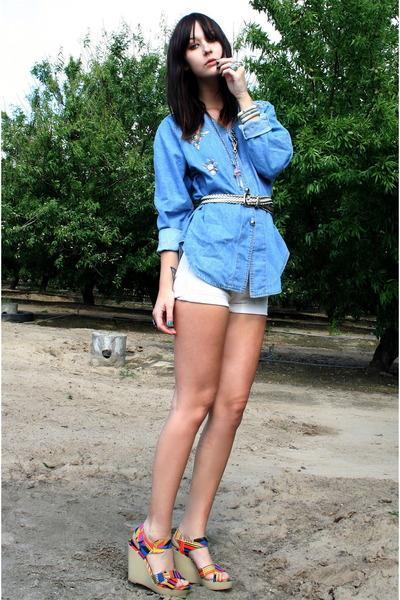shirt: (153, 108, 292, 297)
shoe: (128, 525, 216, 599)
shorts: (180, 276, 270, 323)
